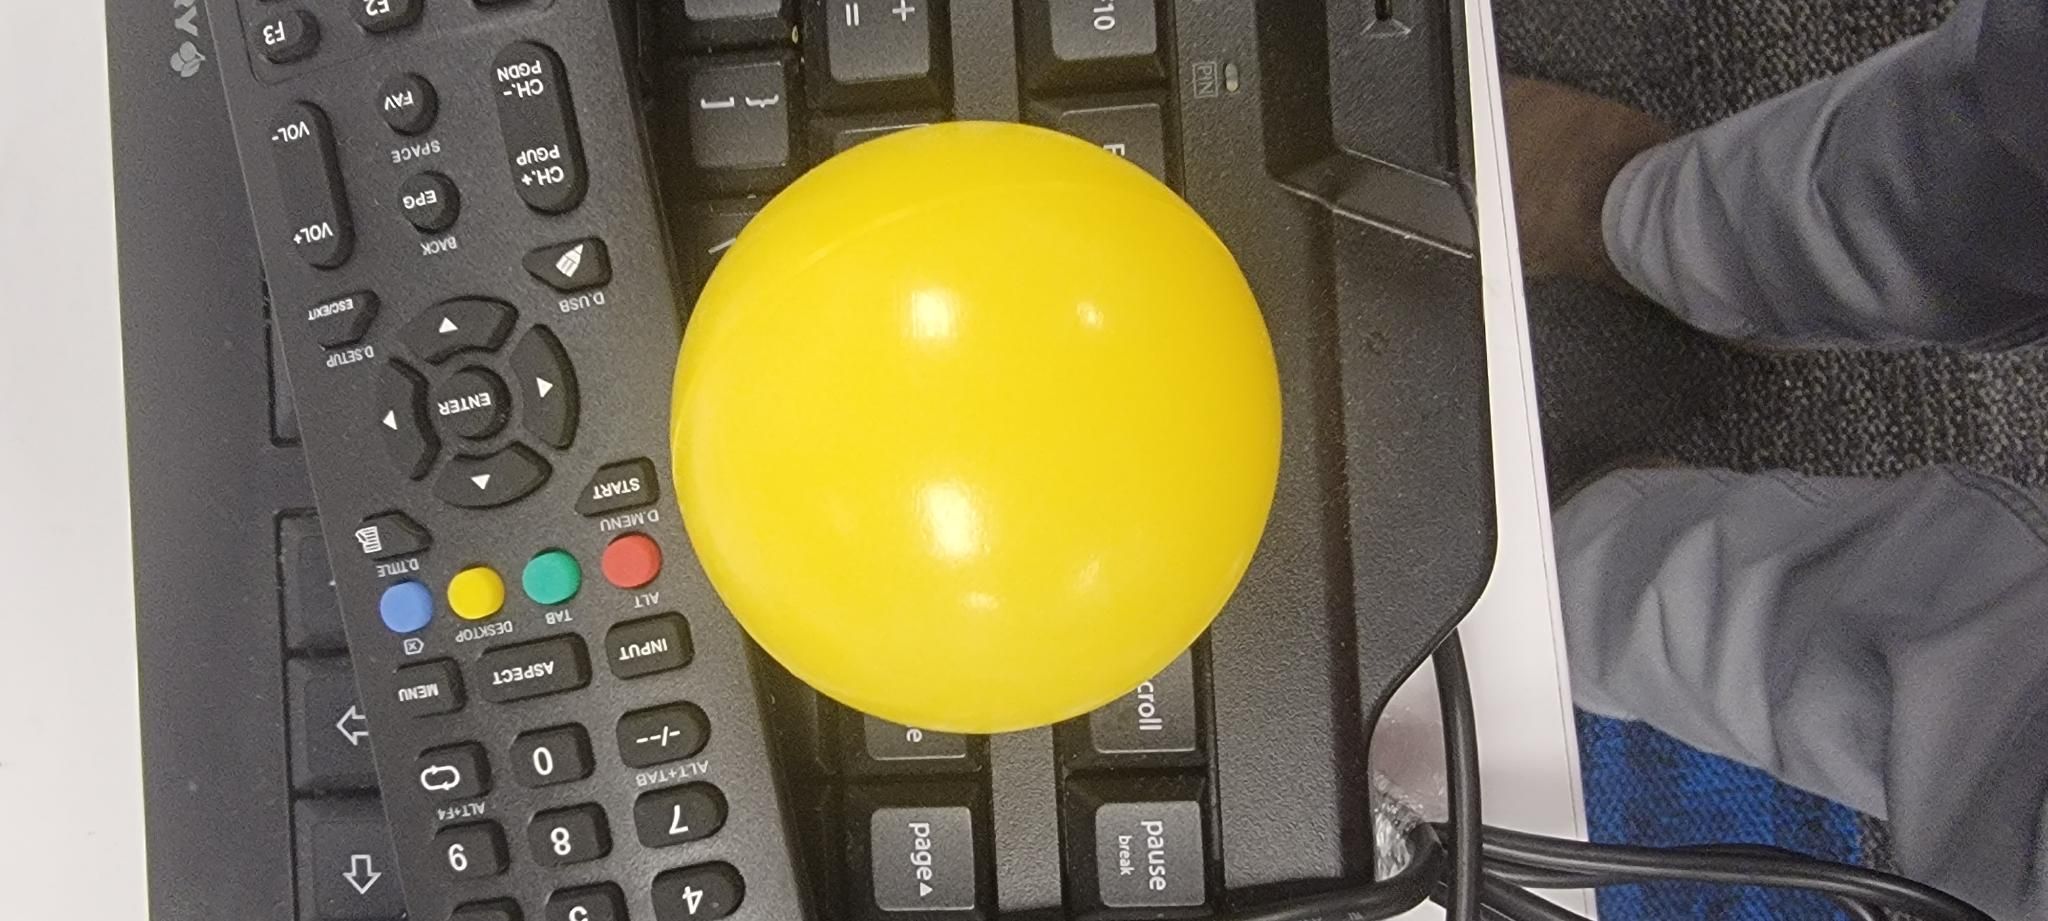Yellow-Ball: (769, 187, 1377, 801)
